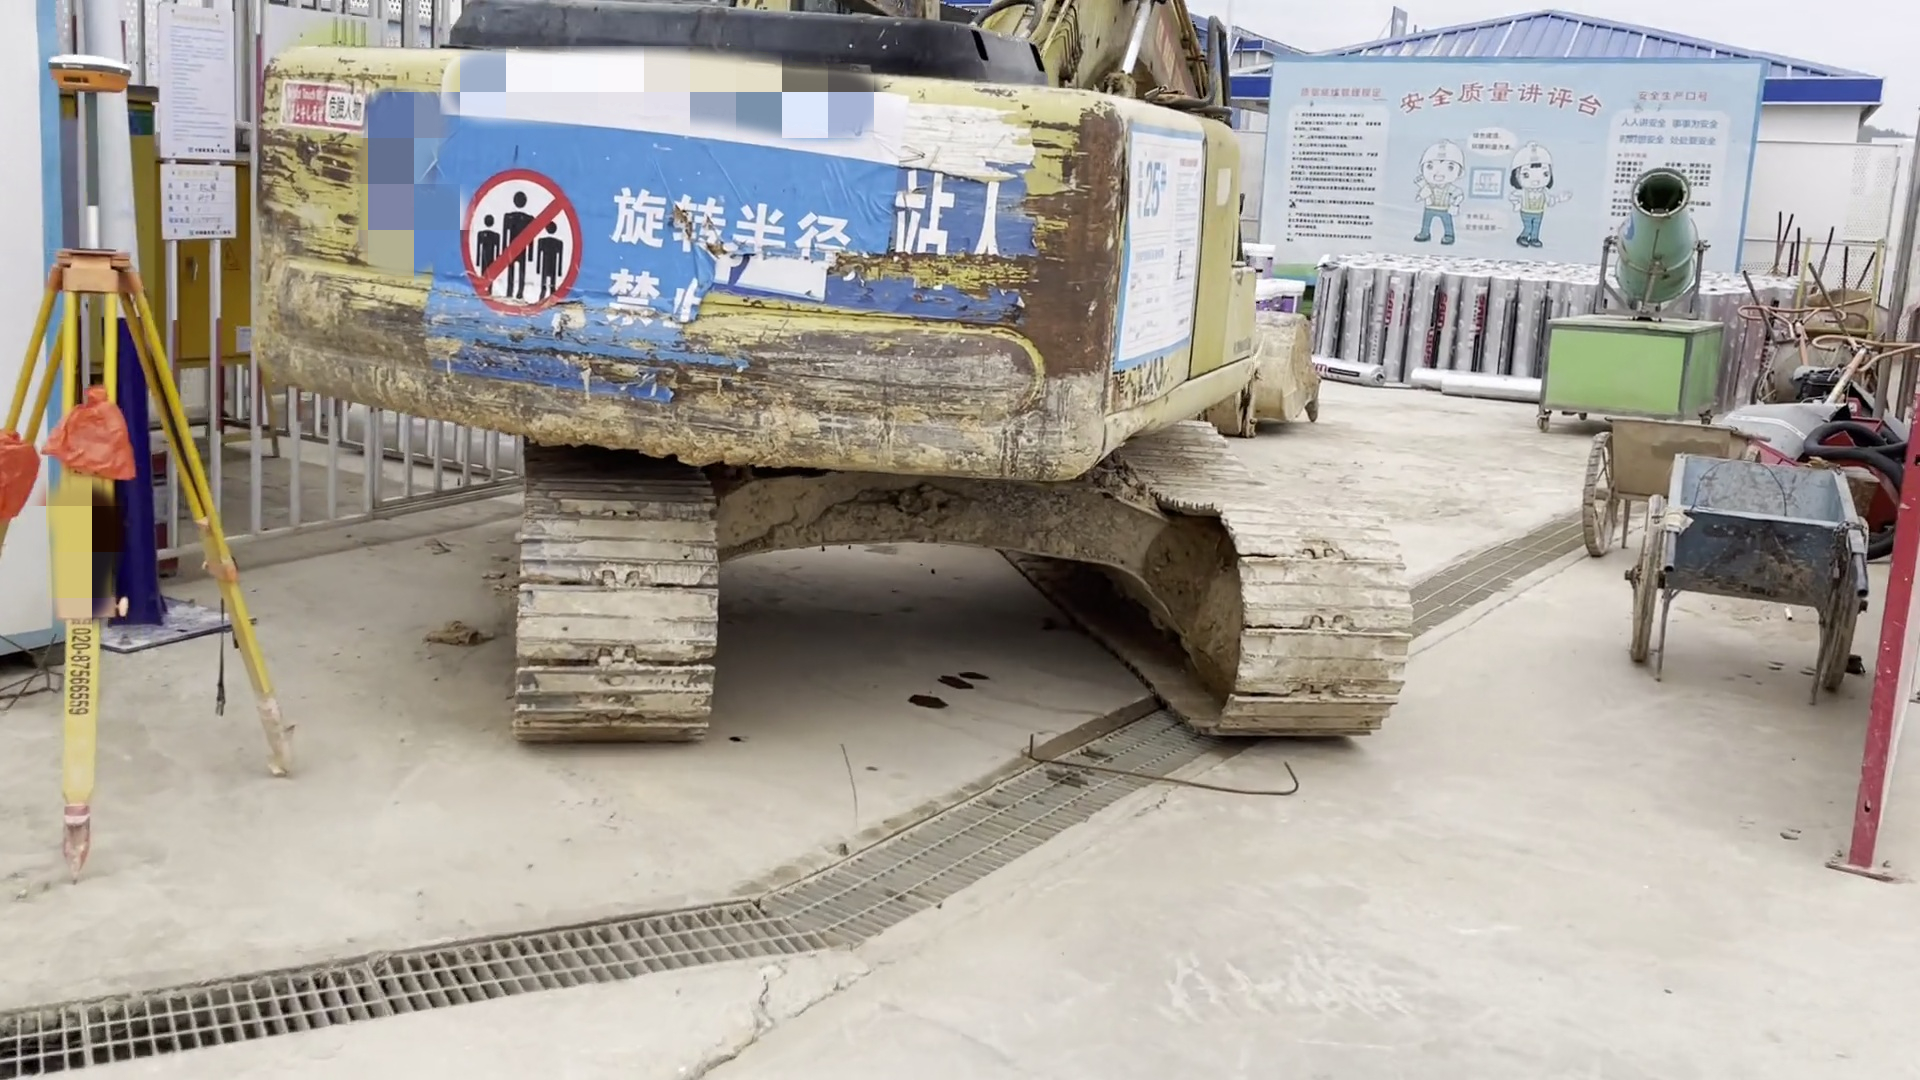handcart: (1625, 444, 1884, 713), (1588, 411, 1743, 555)
slogan: (440, 123, 872, 377)
